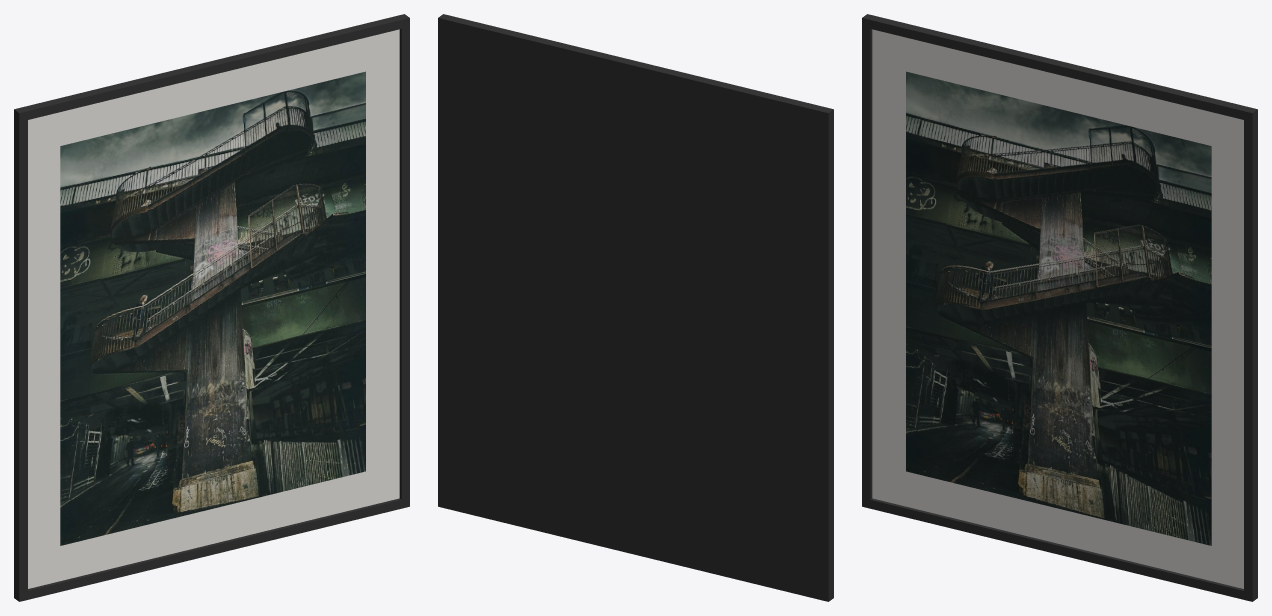
The model's file is trappan-90.gltf.
3 views of the same model, side by side, from view 1: azimuth 30°, elevation 25°; view 2: azimuth 150°, elevation 25°; view 3: azimuth 330°, elevation 25° (orthographic).
Visible parts, largest first — view 1: tavla; view 2: tavla; view 3: tavla.
Part boxes in pixels (x1=…): tavla: x1=14, y1=14, x2=409, y2=601; tavla: x1=438, y1=14, x2=833, y2=601; tavla: x1=862, y1=14, x2=1257, y2=601.
Size of the model in its own units: 0.92 by 1.1 by 0.022.
3 materials, 1 textured.
